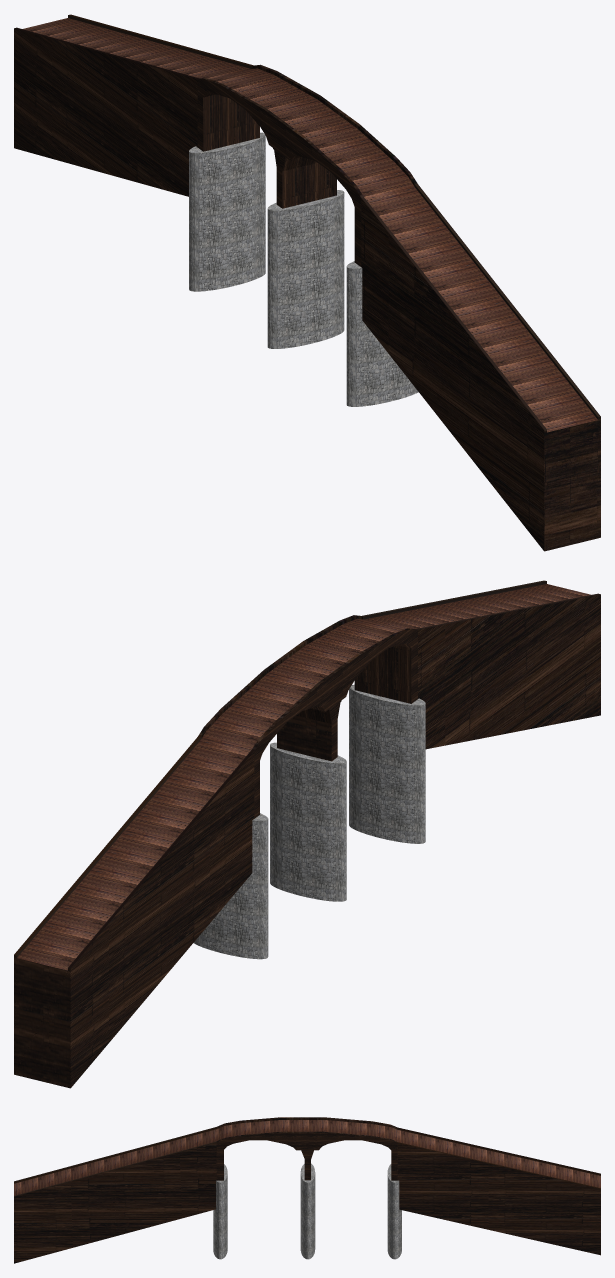
The model's file is brig2.fbx.
The picture shows the model from 3 angles, top to bottom: view 1: azimuth 30°, elevation 25°; view 2: azimuth 150°, elevation 25°; view 3: azimuth 270°, elevation 25°; orthographic projection. The views are drawn at different scales.
Parts seen in each view (by area): view 1: Cube; view 2: Cube; view 3: Cube.
Part boxes in pixels (x1=…): Cube: x1=14, y1=14, x2=600, y2=551; Cube: x1=14, y1=580, x2=600, y2=1088; Cube: x1=14, y1=1117, x2=600, y2=1263.
Bounding box in the file's own units: 800 × 2396 × 9718.
